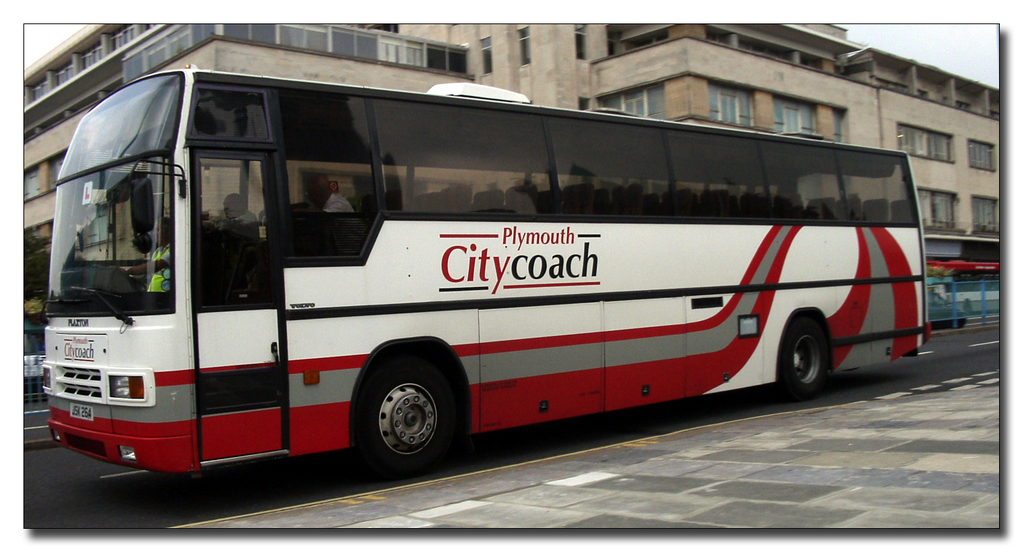Bus: (40, 81, 928, 478), (922, 234, 1004, 328)
